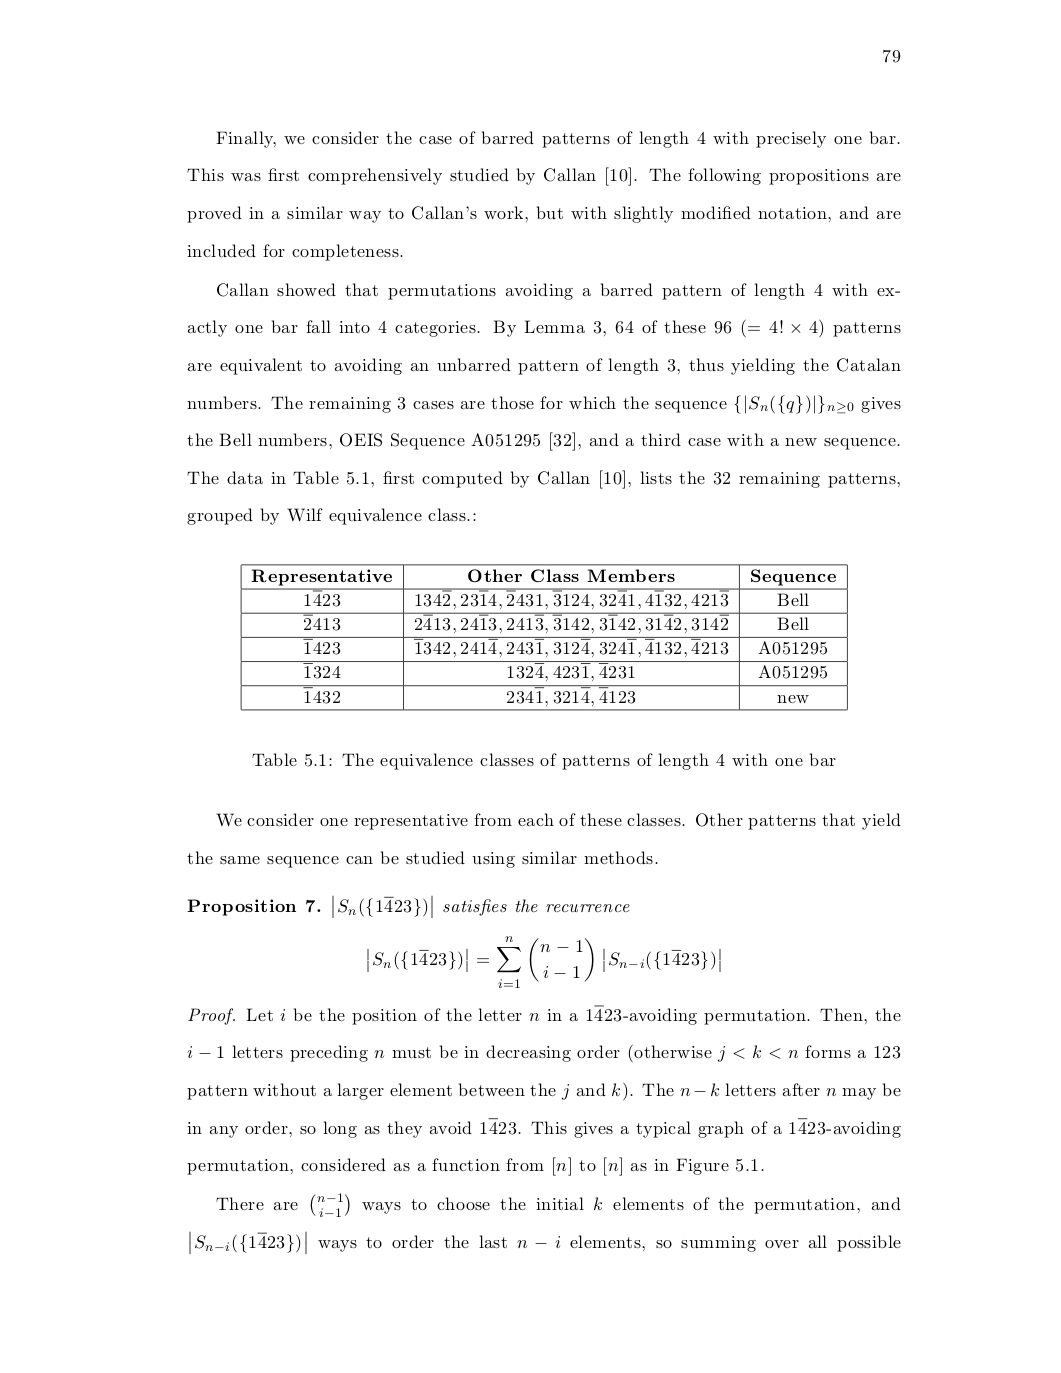Table: (240, 562, 847, 711)
formula: (367, 935, 720, 989)
